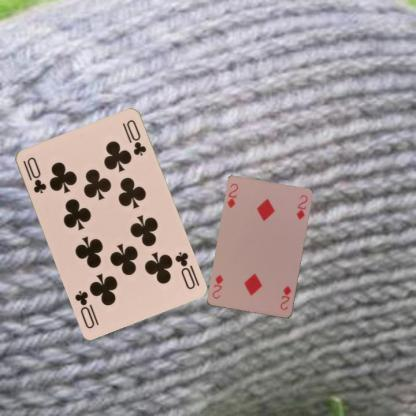10c: (172, 249, 196, 291), (24, 154, 47, 194)
2d: (277, 283, 293, 312), (225, 181, 239, 210)
